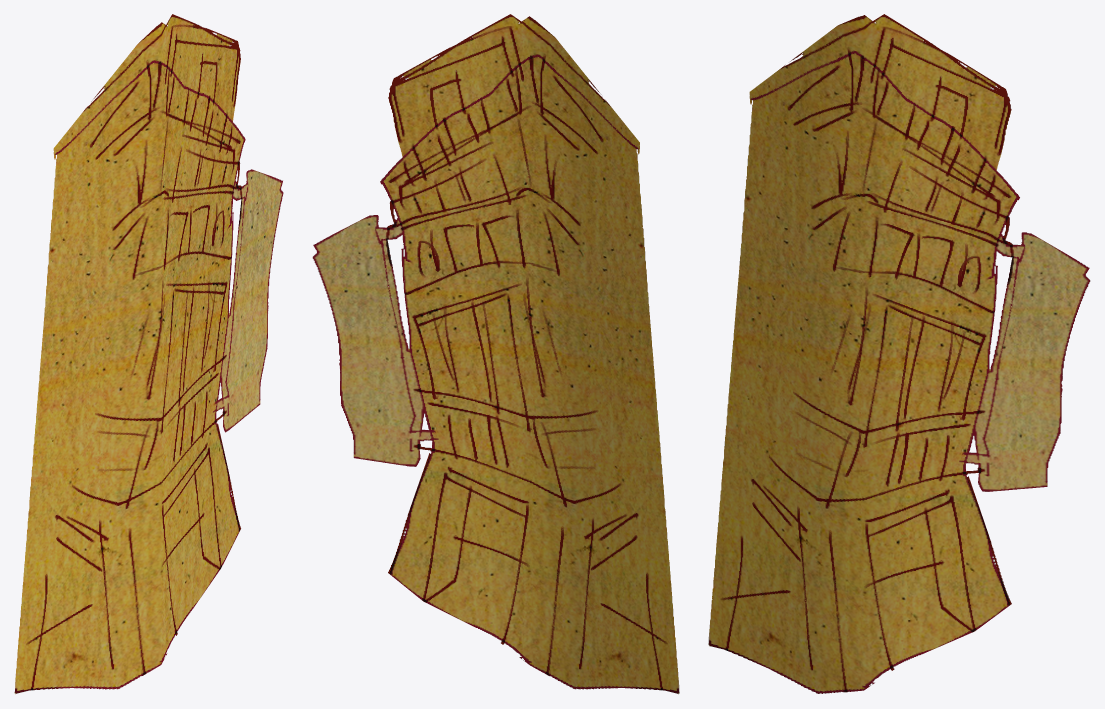
File: 01_front_bld_05.fbx
3 views of the same model, side by side, from view 1: azimuth 30°, elevation 25°; view 2: azimuth 150°, elevation 25°; view 3: azimuth 330°, elevation 25° (orthographic). The views are drawn at different scales.
Parts seen in each view (by area): view 1: 房子_05; view 2: 房子_05; view 3: 房子_05.
Boxes of the visible parts, box(x1,y1,x2,y2) form: 房子_05: box(14, 14, 283, 694); 房子_05: box(312, 14, 679, 694); 房子_05: box(708, 14, 1090, 693).
Bounding box in the file's own units: 369 × 733 × 95.37.
Materials: 1 (1 with a texture image).
